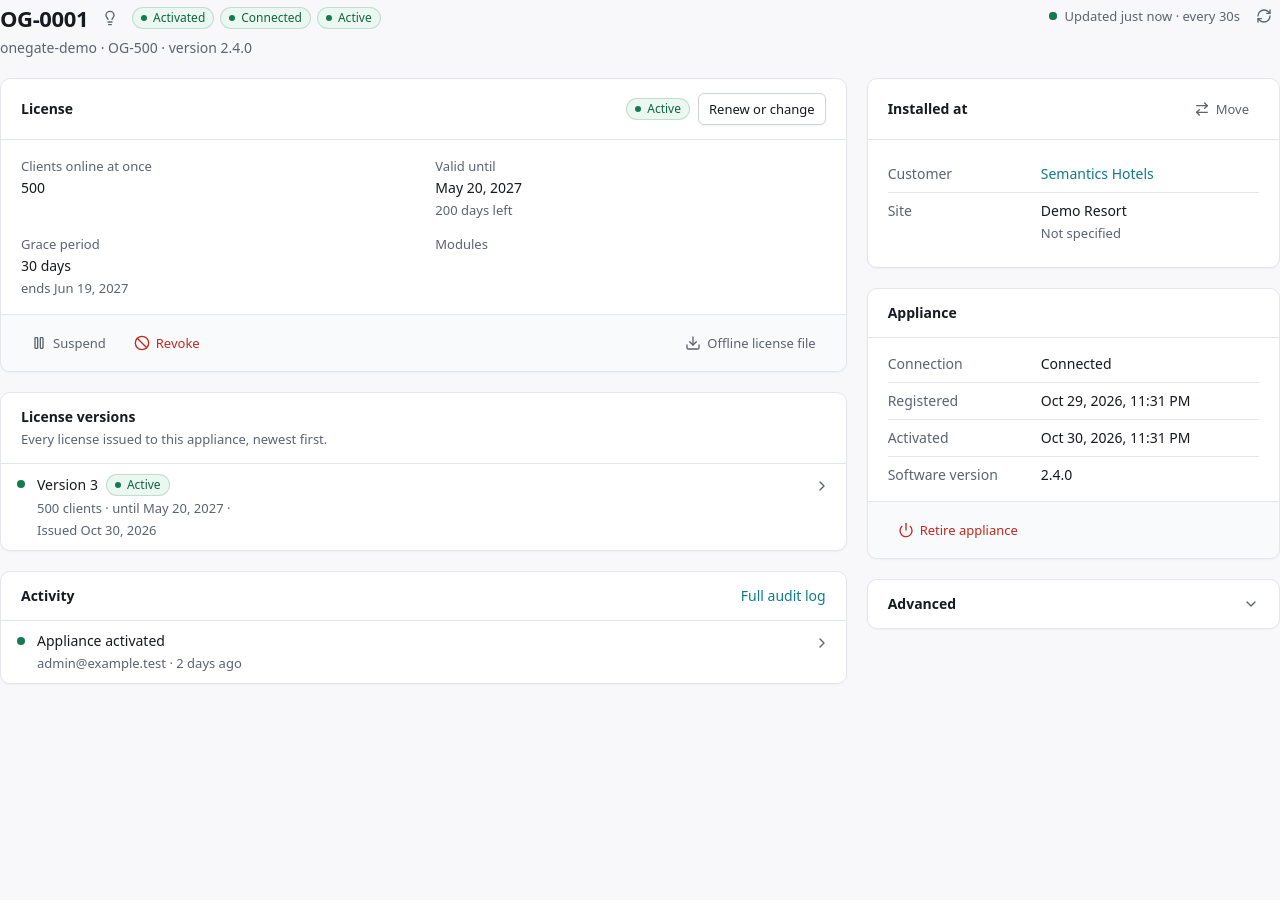
Test: Move — same customer only › shows the server's own message on a 409
This screenshot has width=1280, height=900.
Click the button "Move": (1221, 109) [1184,93,1259,125]
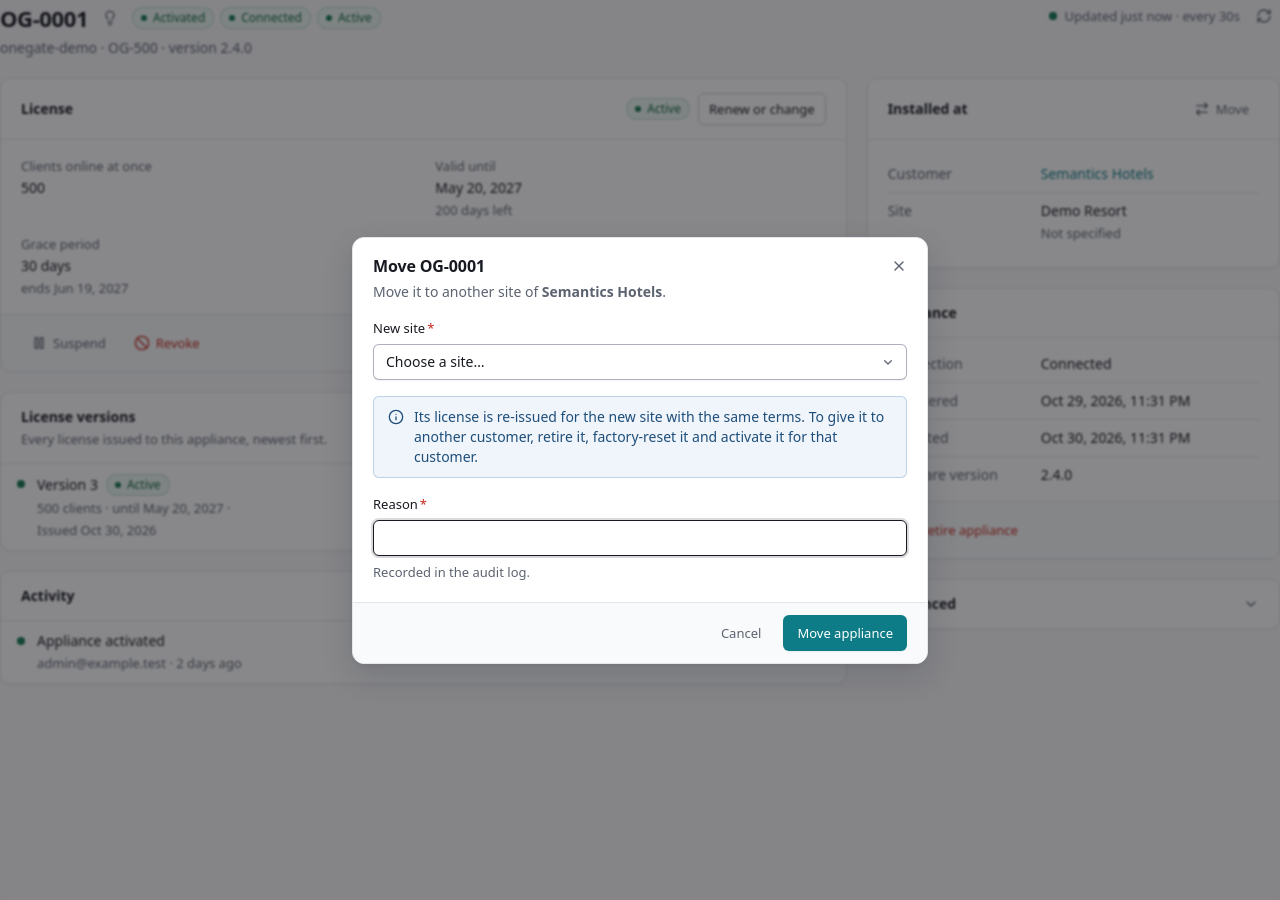
Select "North Beach" in the dropdown labelled "New site*": (640, 362) [373,344,907,380]
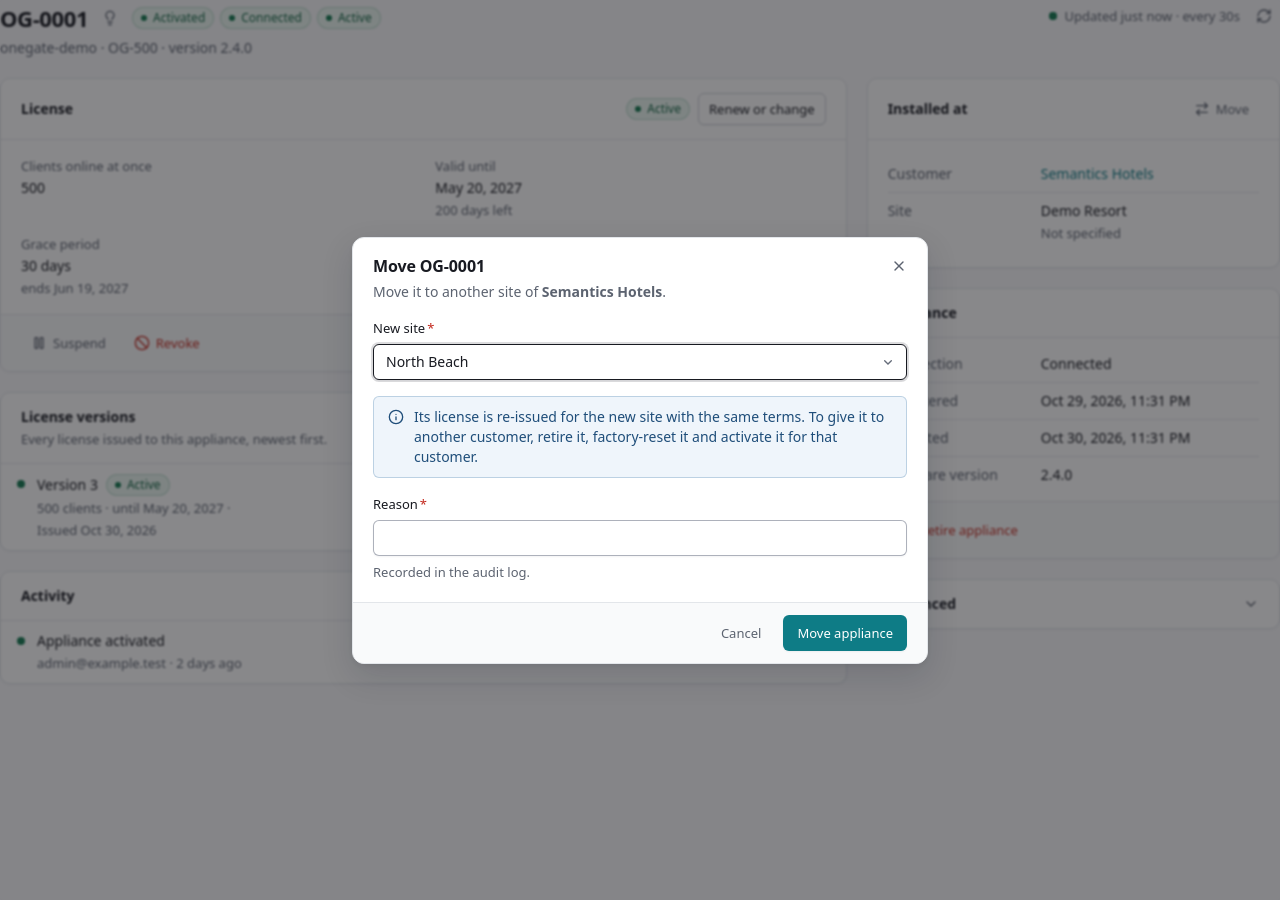
In the field labelled "Reason*": (640, 538) [373,520,907,556], type "reorganisation"
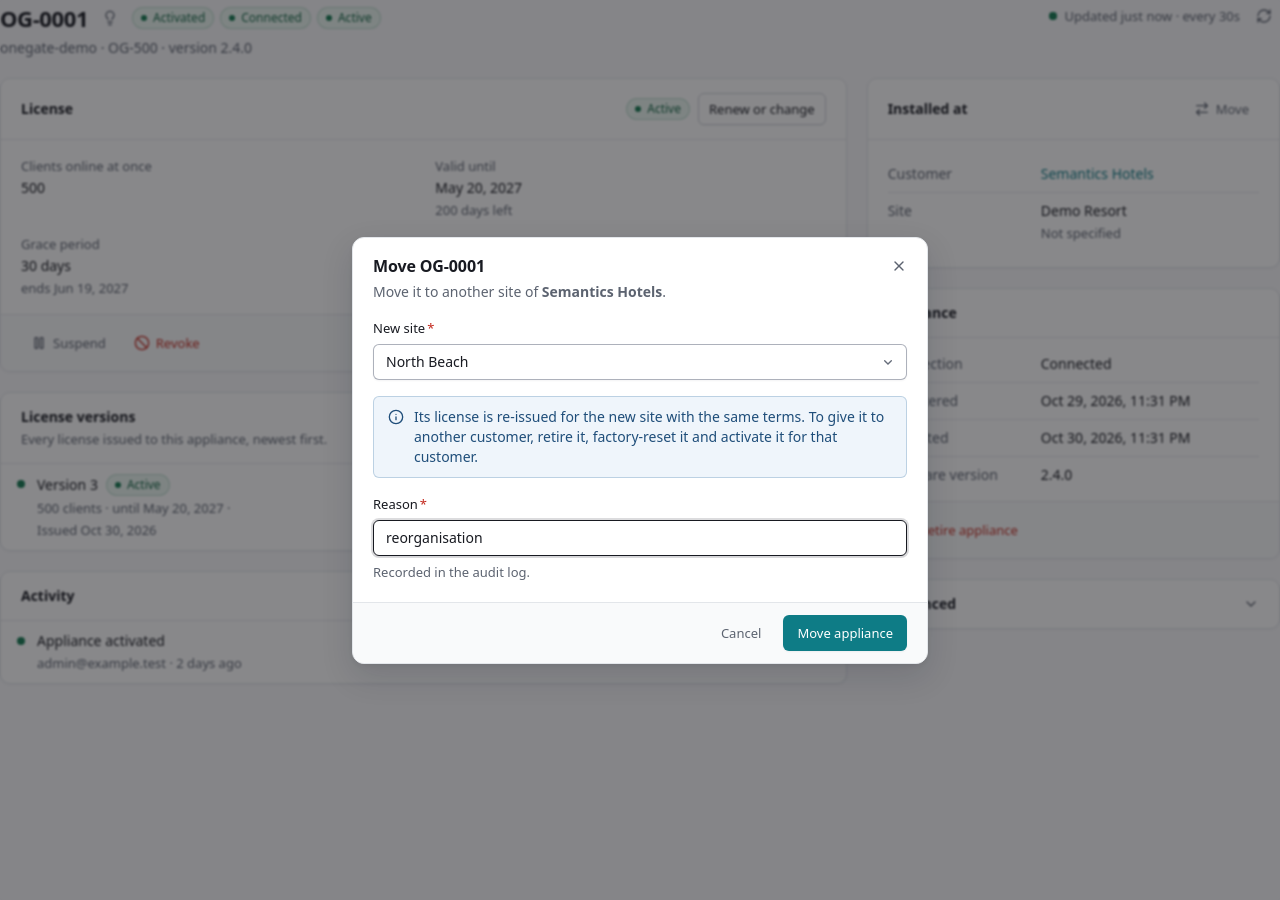
Click the button "Move appliance": (845, 632) [783,614,907,650]
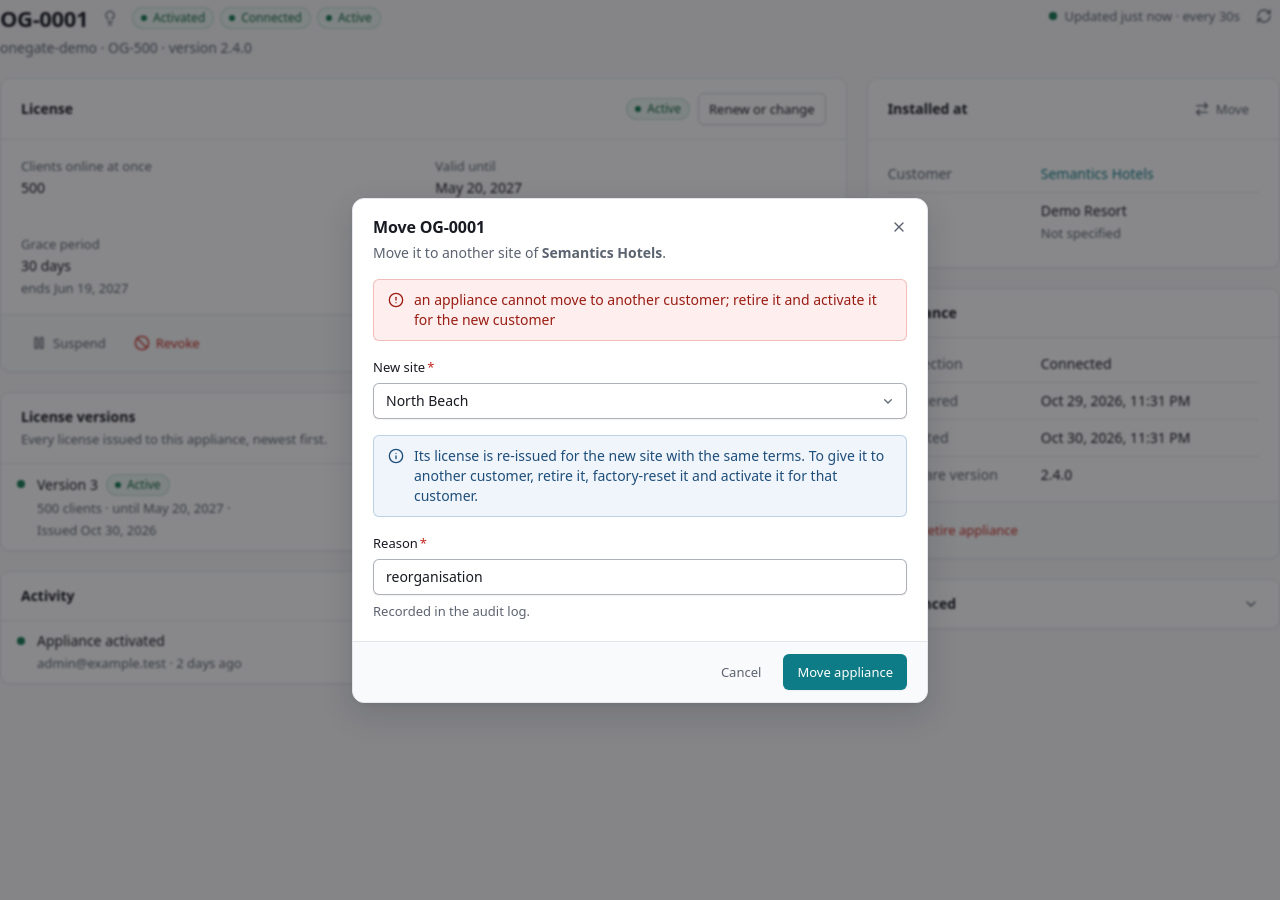
Now the dialog "Move OG-0001" is shown, box [352,198,928,702]
Now the text "an appliance cannot move to another customer; retire it and activate it for the new customer" is shown, box [414,290,877,328]
